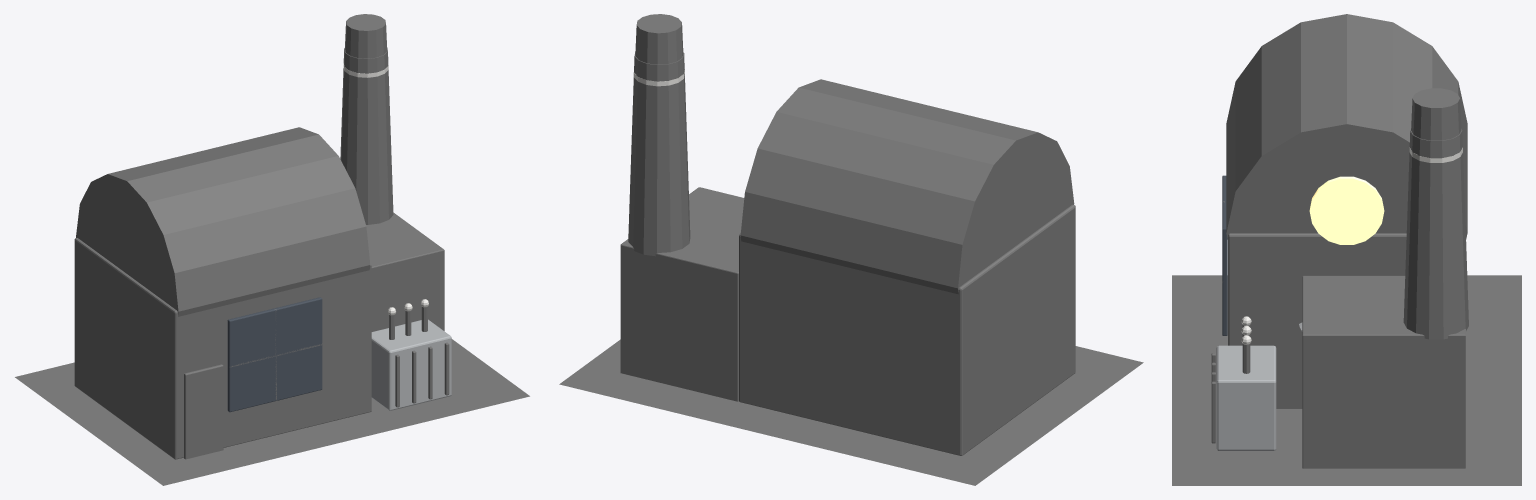
File: power-plant.glb
3 views of the same model, side by side, from view 1: azimuth 30°, elevation 25°; view 2: azimuth 150°, elevation 25°; view 3: azimuth 270°, elevation 25° (orthographic). The views are drawn at different scales.
Visible parts, largest first — view 1: hallRoof, hall, ContactShadow, bigWin, chimneyLow, boilerHouse, xfmr, door, chimneyTop; view 2: hall, hallRoof, boilerHouse, ContactShadow, chimneyLow, chimneyTop; view 3: hallRoof, ContactShadow, boilerHouse, hall, chimneyLow, xfmr, gableWin, chimneyTop, bigWin.
Part boxes in pixels (x1,y1,x2,y2): hallRoof: (76, 127, 370, 316); hall: (74, 238, 371, 459); ContactShadow: (15, 339, 529, 485); bigWin: (227, 297, 322, 412); chimneyLow: (340, 47, 393, 224); boilerHouse: (366, 212, 444, 331); xfmr: (371, 319, 451, 410); door: (184, 364, 223, 459); chimneyTop: (345, 14, 387, 58); hall: (739, 204, 1075, 455); hallRoof: (740, 79, 1074, 294); boilerHouse: (620, 187, 744, 401); ContactShadow: (559, 339, 1143, 485); chimneyLow: (628, 52, 690, 256); chimneyTop: (635, 14, 683, 64); hallRoof: (1226, 14, 1467, 239); ContactShadow: (1172, 275, 1521, 485); boilerHouse: (1302, 275, 1465, 468); hall: (1228, 233, 1406, 408); chimneyLow: (1403, 129, 1468, 339); xfmr: (1216, 345, 1276, 450); gableWin: (1309, 176, 1384, 244); chimneyTop: (1411, 88, 1461, 140); bigWin: (1222, 175, 1227, 335).
Size of the model in its own units: 6.7 by 5.32 by 4.7.
12 materials, 7 textured.
